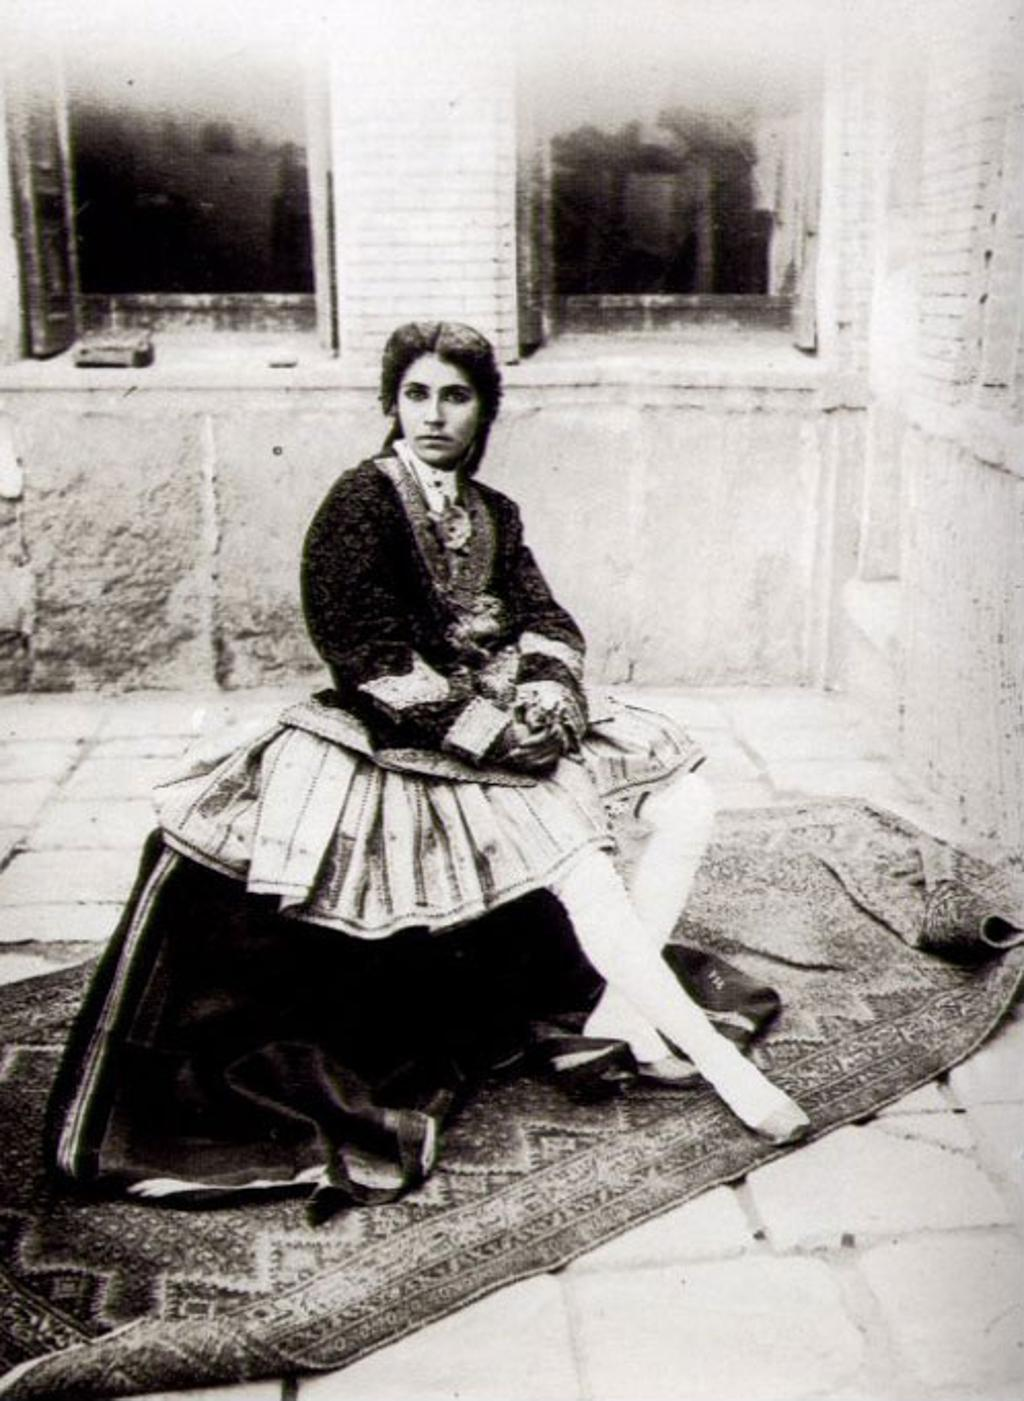face: (400, 361, 477, 462)
